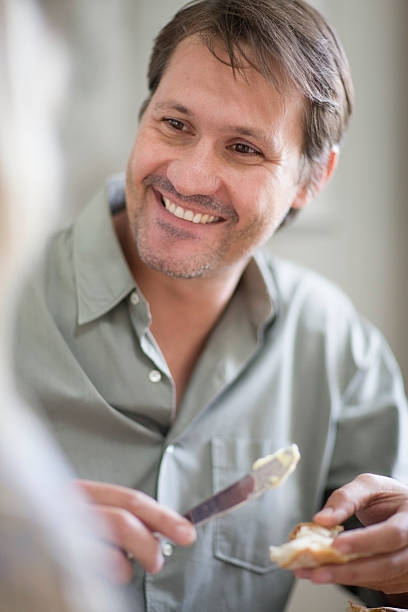knife: (183, 443, 300, 526)
